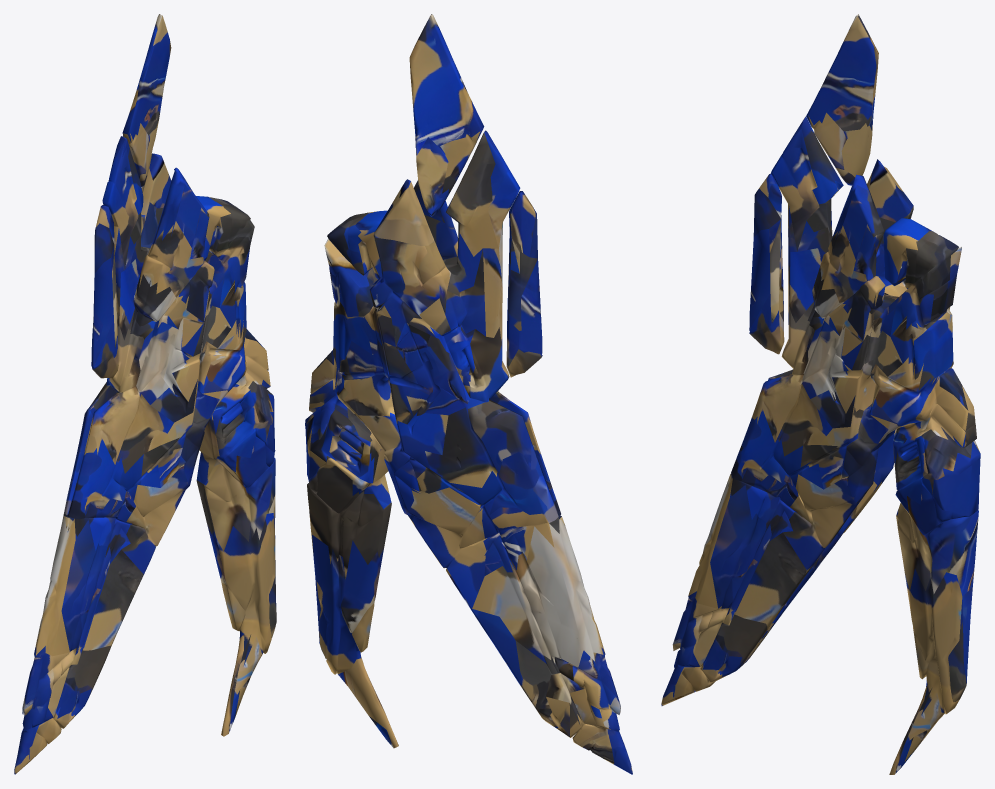
The model's file is MobilityMiddle.gltf.
3 views of the same model, side by side, from view 1: azimuth 30°, elevation 25°; view 2: azimuth 150°, elevation 25°; view 3: azimuth 330°, elevation 25° (orthographic). The views are drawn at different scales.
Parts seen in each view (by area): view 1: MobilityMiddle; view 2: MobilityMiddle; view 3: MobilityMiddle.
Boxes of the visible parts, x1,y1,x2,y2 form: MobilityMiddle: (14,14,276,774); MobilityMiddle: (305,14,632,774); MobilityMiddle: (661,14,980,774).
Size of the model in its own units: 0.4 by 0.9794 by 0.1298.
Materials: 1 (1 with a texture image).
